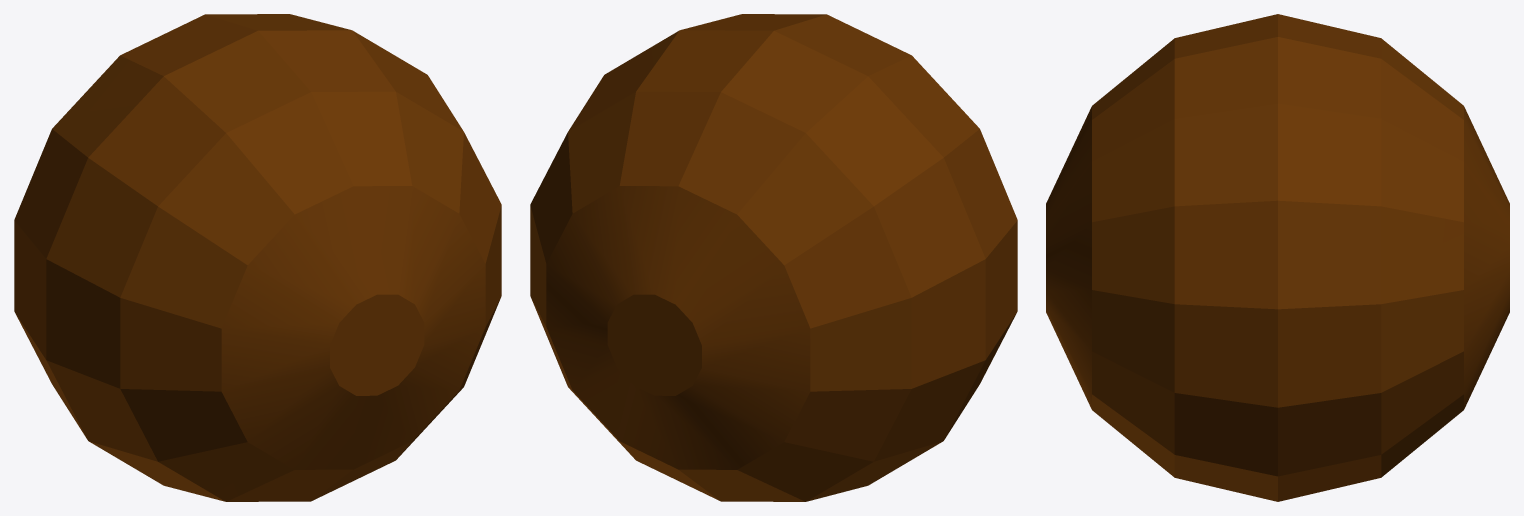
File: Rock_Boulder_Dirt_01.fbx
3 views of the same model, side by side, from view 1: azimuth 30°, elevation 25°; view 2: azimuth 150°, elevation 25°; view 3: azimuth 270°, elevation 25° (orthographic). The views are drawn at different scales.
Visible parts, largest first — view 1: Rock_Boulder_Dirt_01; view 2: Rock_Boulder_Dirt_01; view 3: Rock_Boulder_Dirt_01.
Boxes of the visible parts, x1,y1,x2,y2 form: Rock_Boulder_Dirt_01: [14, 14, 501, 501]; Rock_Boulder_Dirt_01: [530, 14, 1017, 501]; Rock_Boulder_Dirt_01: [1046, 14, 1509, 501].
Bounding box in the file's own units: 99.61 × 102 × 97.11.
